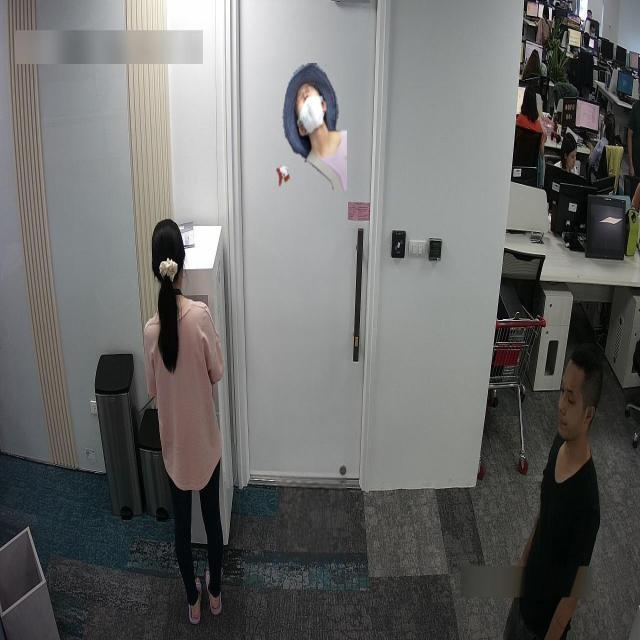hairnet: (294, 80, 328, 134)
